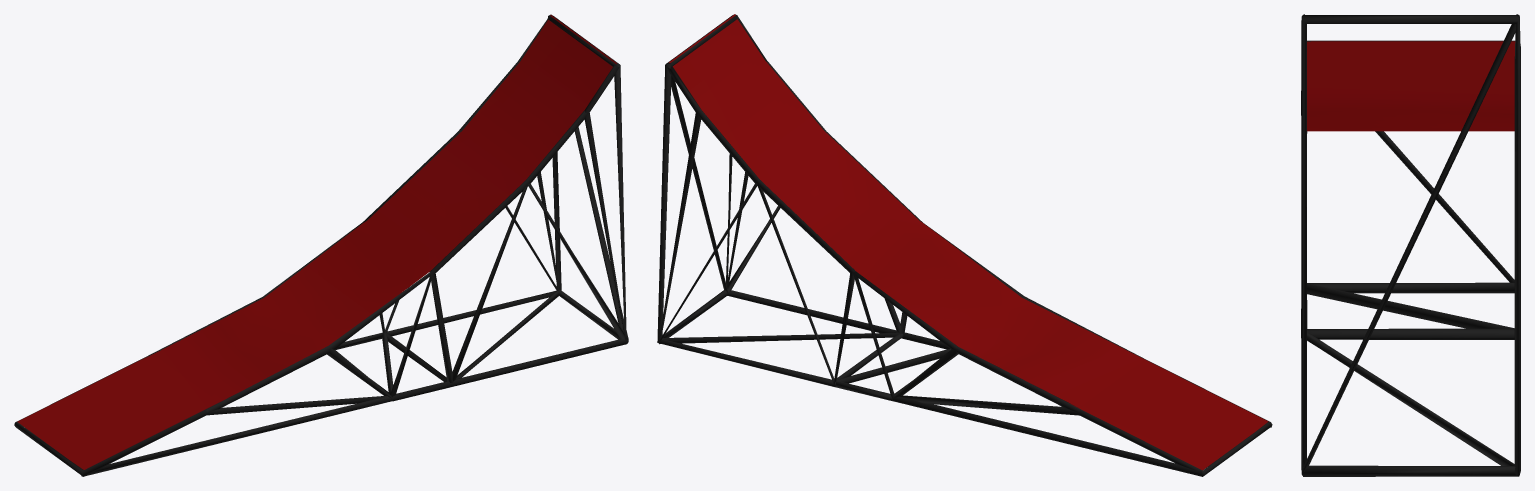
File: DirtBikeTrackJumpRampDark.glb
3 renders of one model, left to right at view 1: azimuth 30°, elevation 25°; view 2: azimuth 150°, elevation 25°; view 3: azimuth 270°, elevation 25°, orthographic. The views are drawn at different scales.
Parts seen in each view (by area): view 1: DirtBikeTrackJumpRampDark; view 2: DirtBikeTrackJumpRampDark; view 3: DirtBikeTrackJumpRampDark.
Boxes of the visible parts, x1=… form: DirtBikeTrackJumpRampDark: x1=14, y1=14, x2=628, y2=476; DirtBikeTrackJumpRampDark: x1=657, y1=14, x2=1272, y2=476; DirtBikeTrackJumpRampDark: x1=1301, y1=14, x2=1520, y2=476.
Bounding box in the file's own units: 7.55 × 3.74 × 1.63.
Materials: 1 (1 with a texture image).
